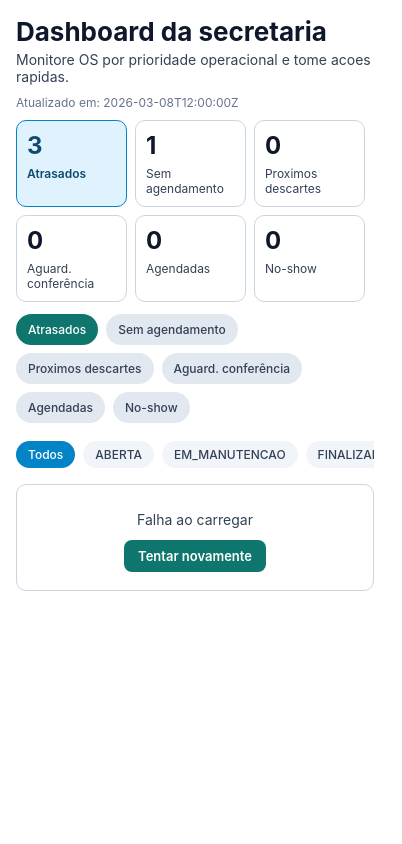
Scenario: SecretaryDashboardScreen › shows list error and retries successfully
Expected: the element with test id "list-state-error" is shown, [16, 484, 374, 591]
Expected: the text "Falha ao carregar" is shown, [137, 511, 253, 528]
Click the text "Tentar novamente". click: point(195, 556)
box: [138, 548, 252, 564]
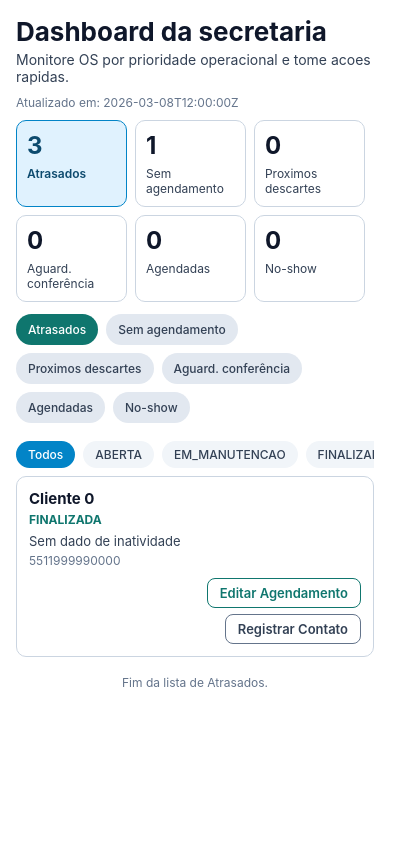
Now the text "Cliente 0" is shown, box [29, 489, 94, 508]
